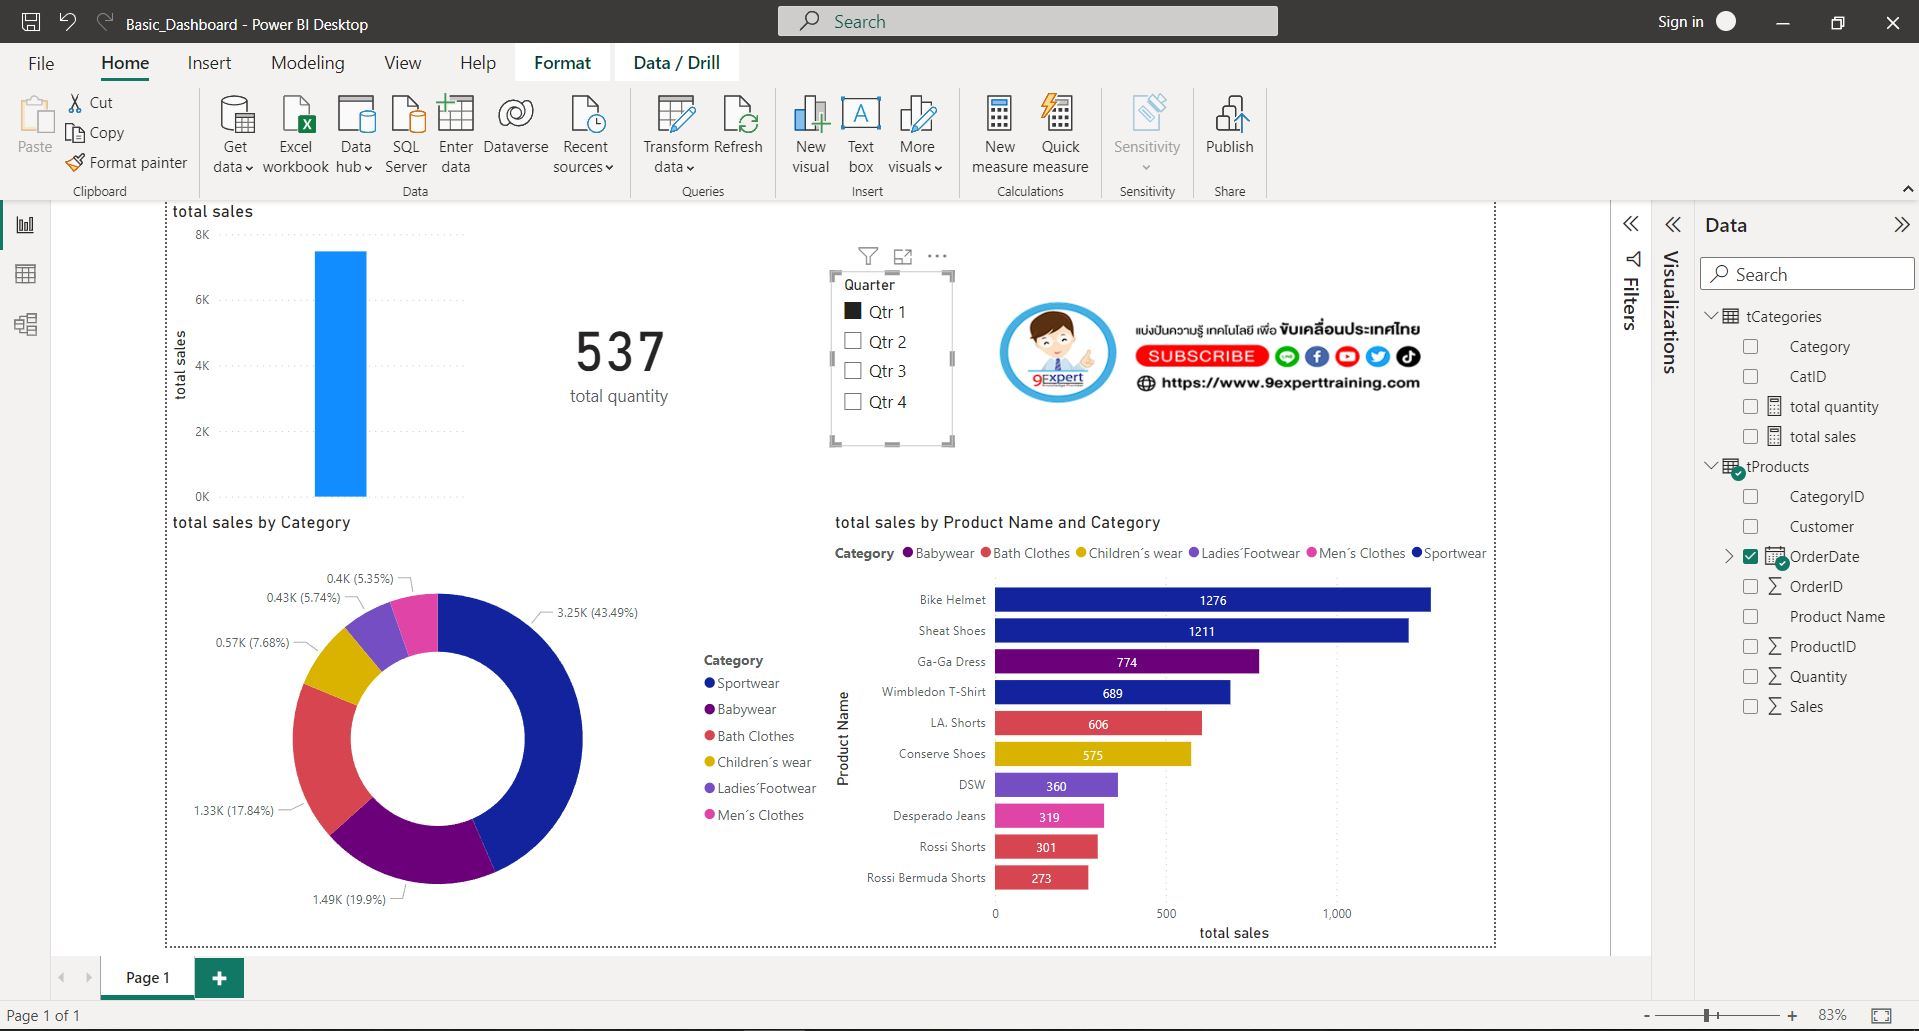

What the dashboard file says about the page in this screenshot:
{"tool":"powerbi","page":{"name":"Page 1","canvas":[1280,720],"ordinal":0},"visuals":[{"type":"columnChart","fields":{"Y":["tCategories.total sales"]},"box":[0,0,291.9,300.3],"z":0},{"type":"card","fields":{"Values":["tCategories.total quantity"]},"box":[291.9,0,288.2,300.3],"z":1000},{"type":"donutChart","fields":{"Y":["tCategories.total sales"],"Category":["tCategories.Category"]},"box":[0,300.5,640.8,419.9],"z":2000},{"type":"slicer","fields":{"Values":["tProducts.OrderDate.Variation.Date Hierarchy.Quarter"]},"box":[640.8,68.6,118,168.8],"z":3000},{"type":"barChart","fields":{"Category":["tProducts.Product Name"],"Y":["tCategories.total sales"],"Series":["tCategories.Category"]},"box":[639.5,300.5,640.8,419.9],"z":4000},{"type":"image","box":[759,69,521,169],"z":5000}]}

Visuals, with their boxes on the page's 1280x720 design canvas (x1, y1, x2, y2). These are canvas units, not pixel positions in the 1919x1031 screenshot, which may show the page scaled, cropped or inside an application window:
columnChart - tCategories.total sales: x1=0, y1=0, x2=292, y2=300
card - tCategories.total quantity: x1=292, y1=0, x2=580, y2=300
donutChart - tCategories.total sales x tCategories.Category: x1=0, y1=300, x2=641, y2=720
slicer - tProducts.OrderDate.Variation.Date Hierarchy.Quarter: x1=641, y1=69, x2=759, y2=237
barChart - tProducts.Product Name x tCategories.total sales: x1=640, y1=300, x2=1280, y2=720
image: x1=759, y1=69, x2=1280, y2=238
